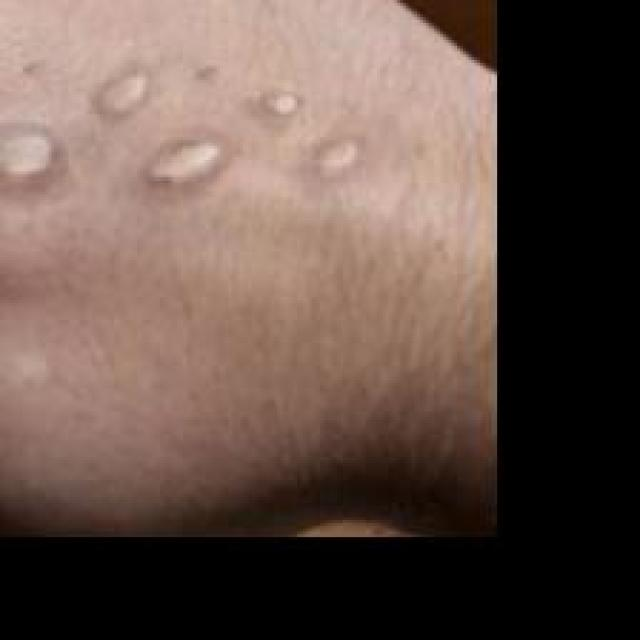monkeypox: (6, 27, 413, 336)
